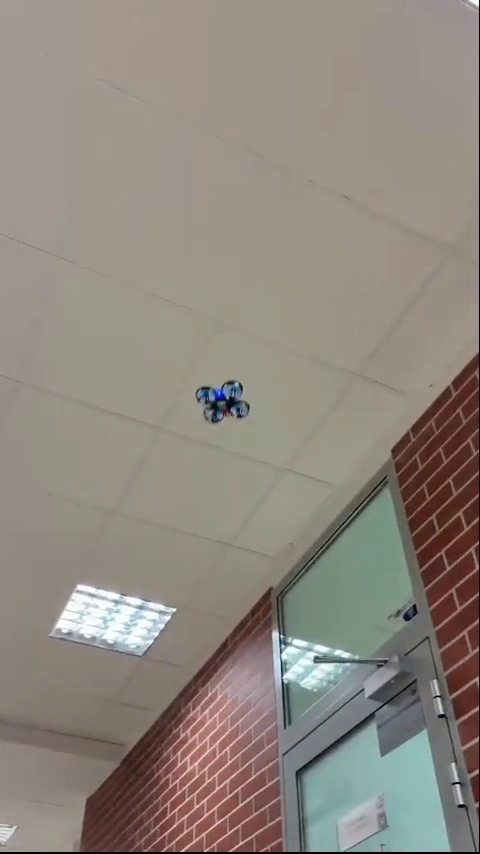drone: (197, 379, 249, 427)
